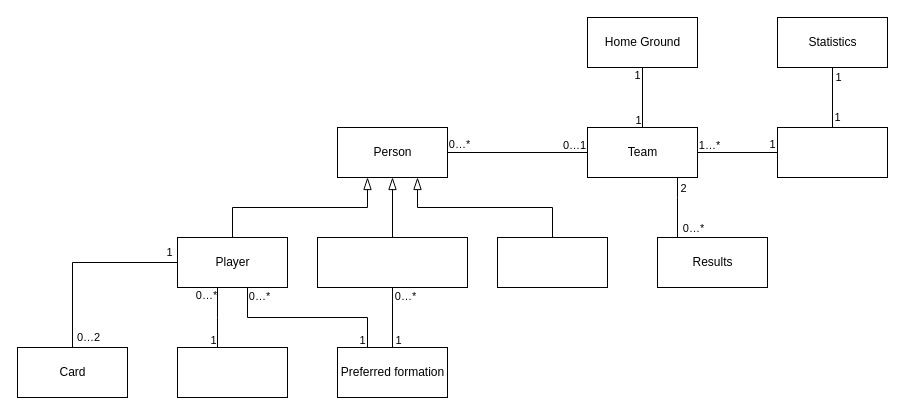
Image size: 905x415. Some labels were removed from this diagram. The shapes that lost their labels are listed below. From the top down, each one's centre as x and y in pixels, then its label:
At point 832,152: "League".
At point 392,262: "Coaching Staff Member".
At point 552,262: "Referee".
At point 232,372: "Position".
